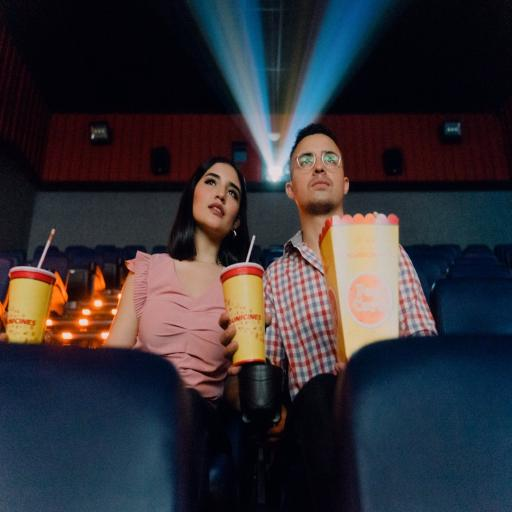face: (286, 134, 348, 215), (193, 163, 241, 239)
